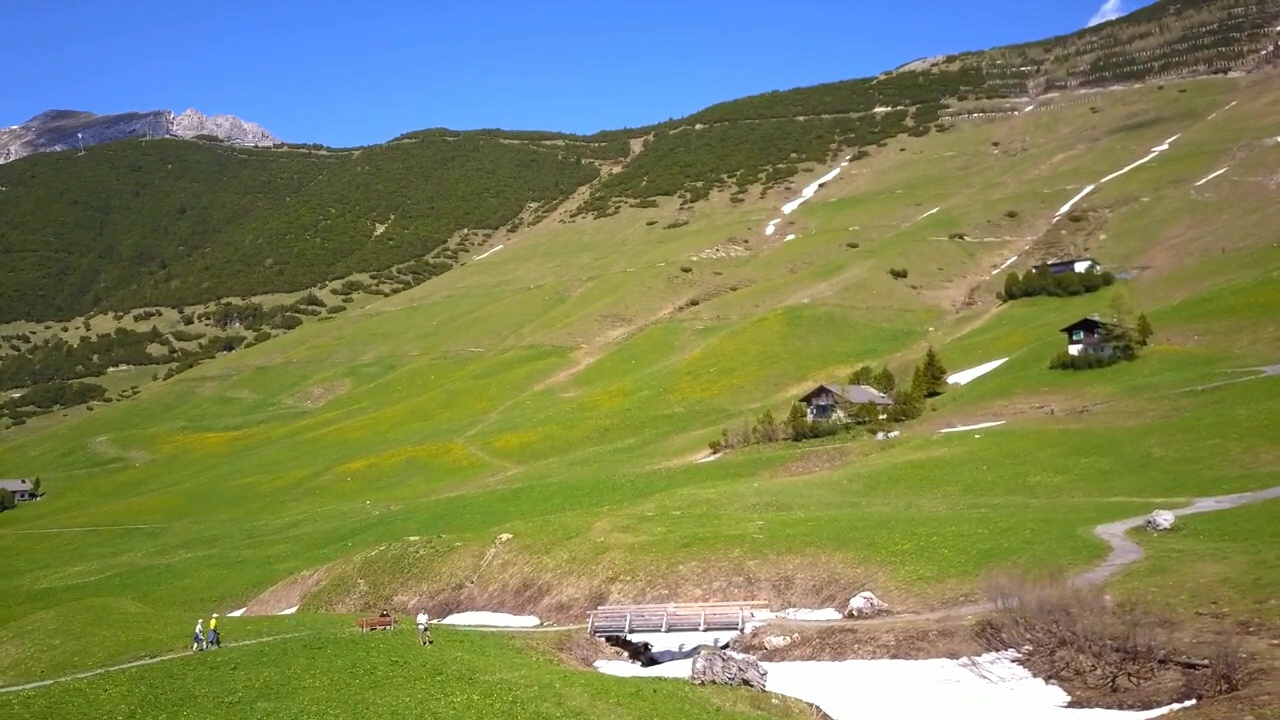insan: (411, 608, 434, 649), (206, 608, 226, 653), (190, 617, 209, 657)
